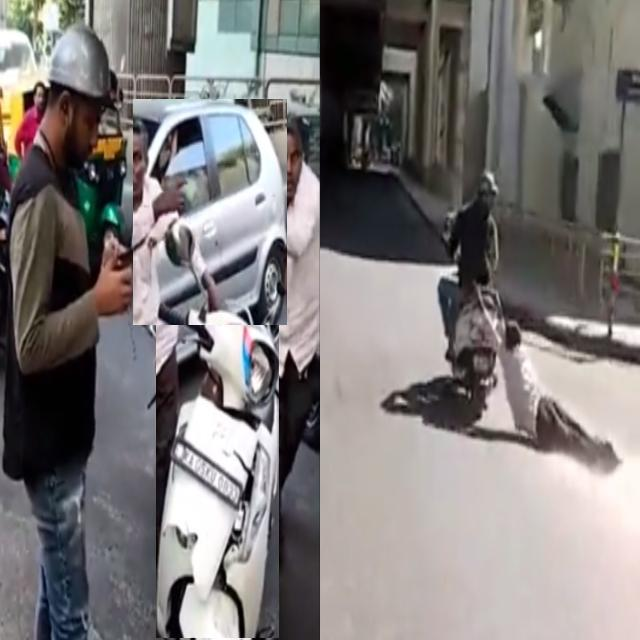accident: (156, 220, 279, 638)
car: (133, 100, 286, 325)
